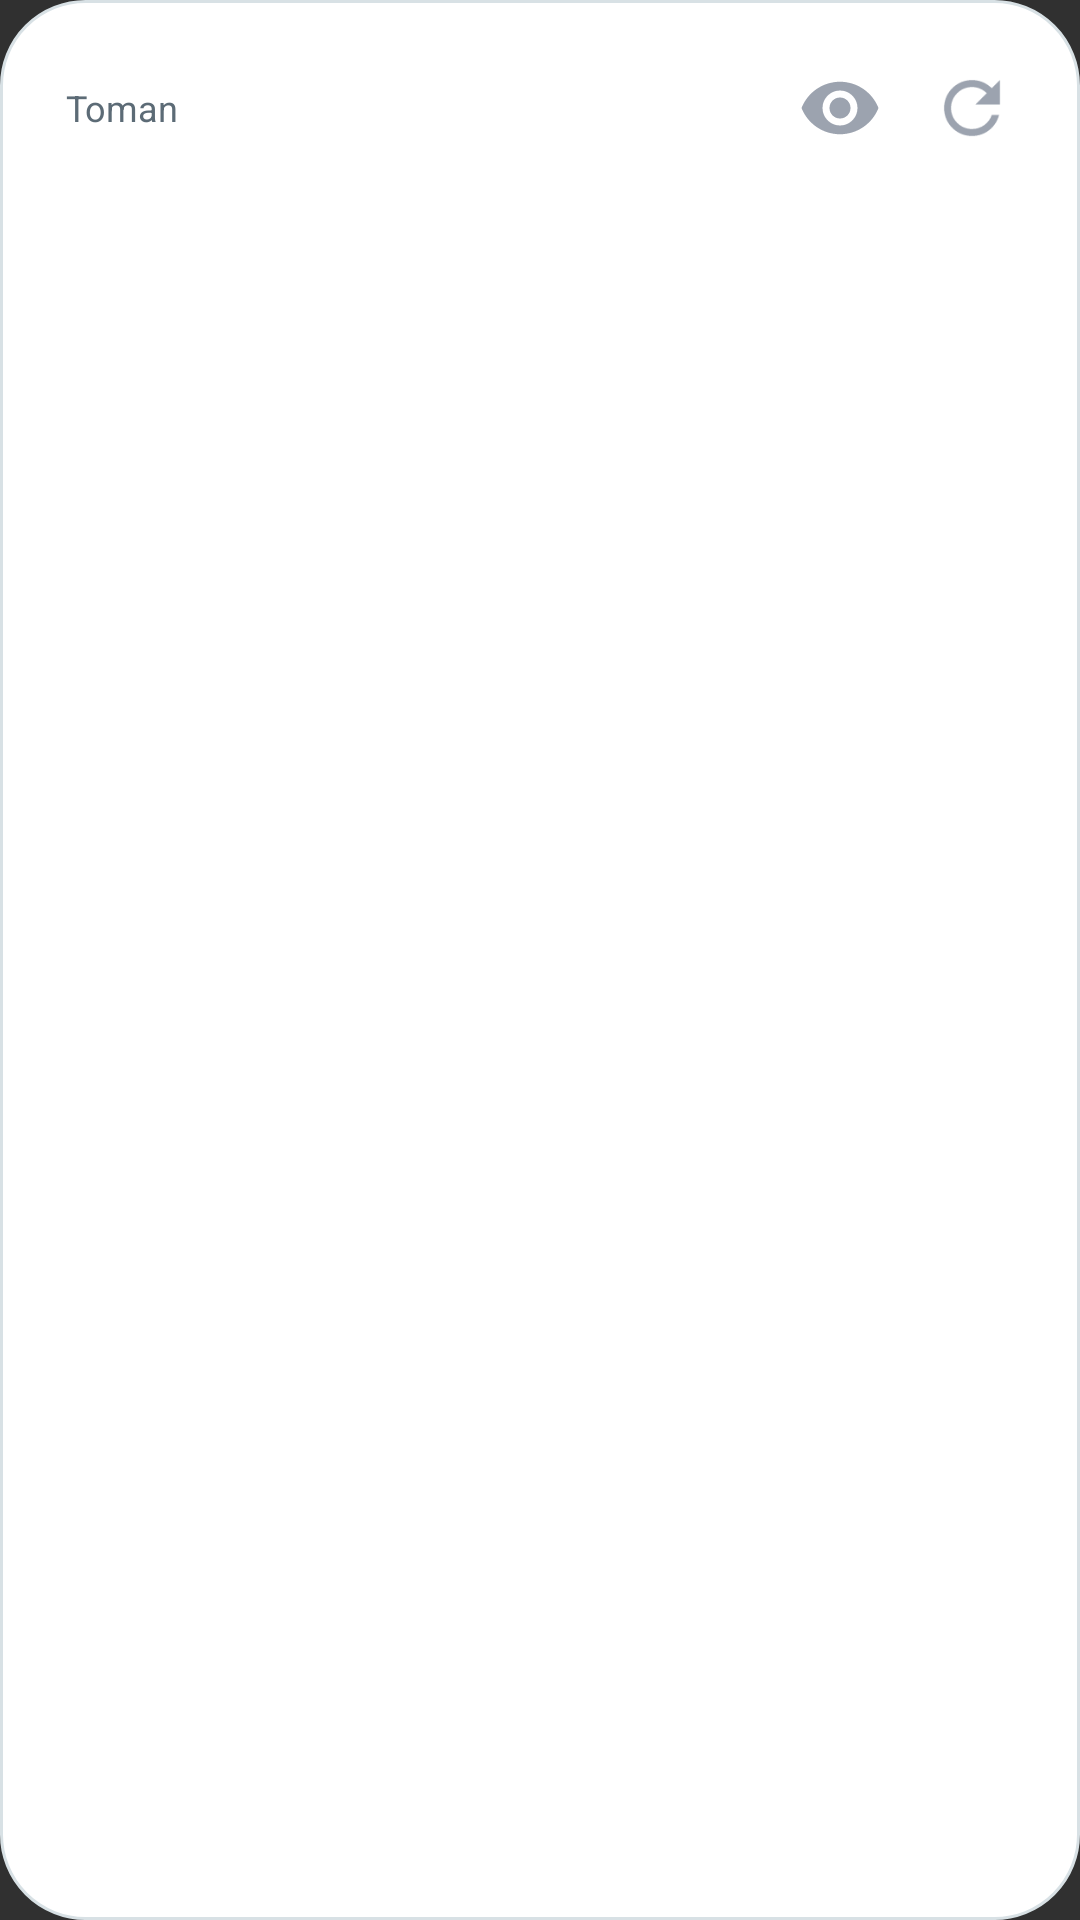

Icons on this 1080w x 1920h Android screen, each with its box as [x1, y1, x2, y2]:
Refresh: [944, 80, 1000, 136]
Show or hide balances: [801, 82, 879, 135]
